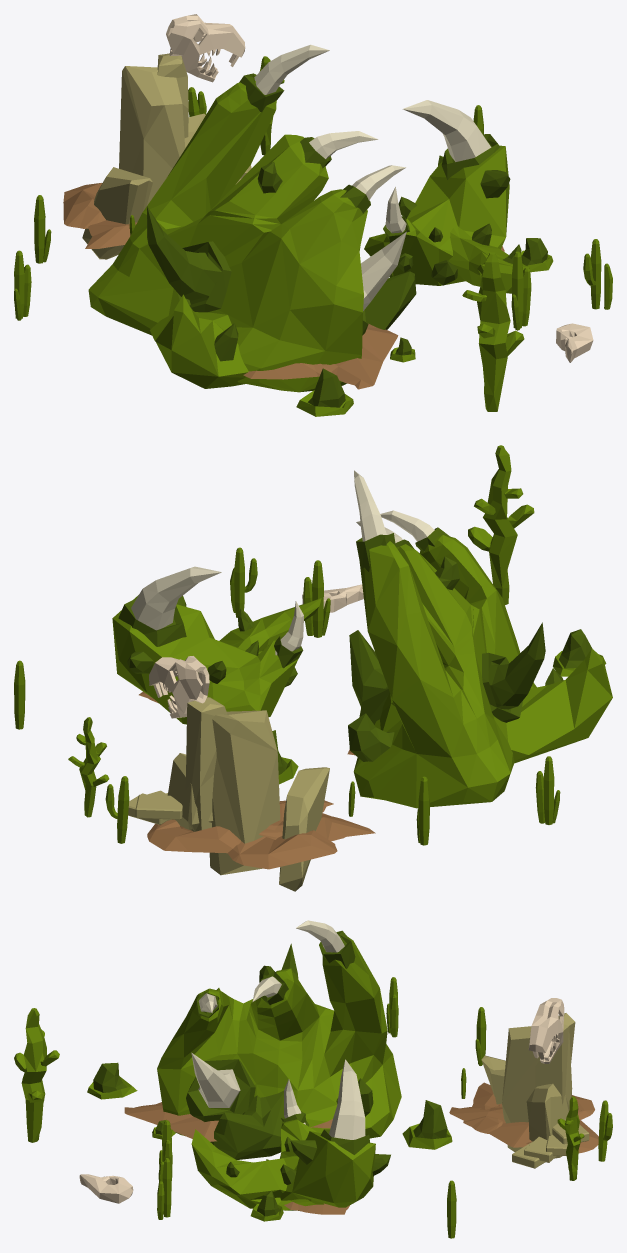
File: assets_desert.glb
3 renders of one model, top to bottom at view 1: azimuth 30°, elevation 25°; view 2: azimuth 150°, elevation 25°; view 3: azimuth 270°, elevation 25°, orthographic. The views are drawn at different scales.
Parts seen in each view (by area): view 1: Box14698, GeoSphere041, Box14699, Cylinder1142_Color_0, Creature_42, Box14701, Plane051, Cylinder1136_Color_0, Plane057, Cylinder1145_Color_0, Cylinder1141_Color_0, Box14702 (+6 smaller); view 2: Box14698, GeoSphere041, Box14699, Cylinder1142_Color_0, Box14702, Box14701, Plane057, Creature_42, Plane058, Cylinder1146, Box14700, Cylinder1141_Color_0 (+9 smaller); view 3: Box14698, GeoSphere041, Box14699, Cylinder1142_Color_0, Creature_42, Box14700, Plane051, Cylinder1138_Color_0, Box14702, Plane055, Cylinder1136_Color_0, Creature_73_Color_0 (+12 smaller).
Boxes of the visible parts, box(x1,y1,x2,y2) form: Box14698: box(88, 44, 416, 392); GeoSphere041: box(364, 100, 529, 293); Box14699: box(119, 66, 185, 205); Cylinder1142_Color_0: box(462, 252, 524, 411); Creature_42: box(166, 14, 245, 82); Box14701: box(82, 167, 152, 259); Plane051: box(313, 323, 398, 389); Cylinder1136_Color_0: box(296, 368, 353, 416); Plane057: box(63, 183, 105, 228); Cylinder1145_Color_0: box(583, 239, 612, 309); Cylinder1141_Color_0: box(511, 251, 531, 330); Box14702: box(157, 53, 188, 137); Box14698: box(348, 470, 612, 808); GeoSphere041: box(112, 566, 321, 724); Box14699: box(209, 710, 280, 875); Cylinder1142_Color_0: box(468, 445, 534, 604); Box14702: box(185, 697, 227, 831); Box14701: box(279, 767, 329, 891); Plane057: box(227, 830, 337, 869); Creature_42: box(149, 656, 209, 718); Plane058: box(147, 819, 241, 853); Cylinder1146: box(68, 717, 109, 817); Box14700: box(167, 753, 213, 831); Cylinder1141_Color_0: box(303, 560, 330, 637); Box14698: box(157, 920, 401, 1159); GeoSphere041: box(191, 1059, 390, 1210); Box14699: box(502, 1013, 575, 1158); Cylinder1142_Color_0: box(14, 1008, 59, 1142); Creature_42: box(528, 998, 564, 1063); Box14700: box(526, 1083, 569, 1162); Plane051: box(124, 1102, 218, 1141); Cylinder1138_Color_0: box(402, 1100, 452, 1149); Box14702: box(535, 1024, 572, 1106); Plane055: box(449, 1103, 531, 1147); Cylinder1136_Color_0: box(87, 1062, 137, 1099); Creature_73_Color_0: box(79, 1174, 133, 1203).
Bounding box in the file's own units: 1957 × 1097 × 2372.
1 material, 1 textured.
